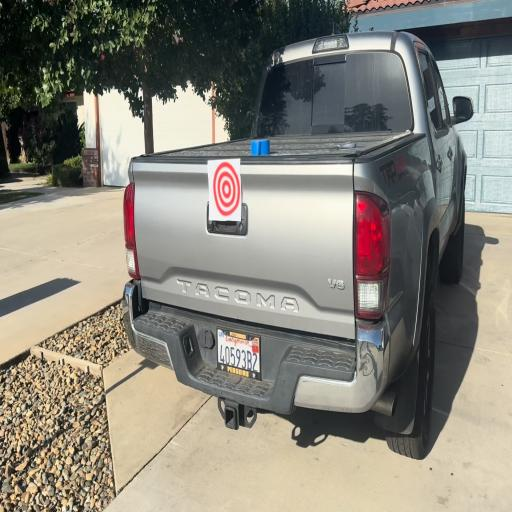bullseye: (211, 159, 241, 222)
